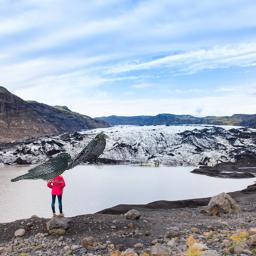Crow: (10, 152, 74, 183), (64, 133, 111, 171)
